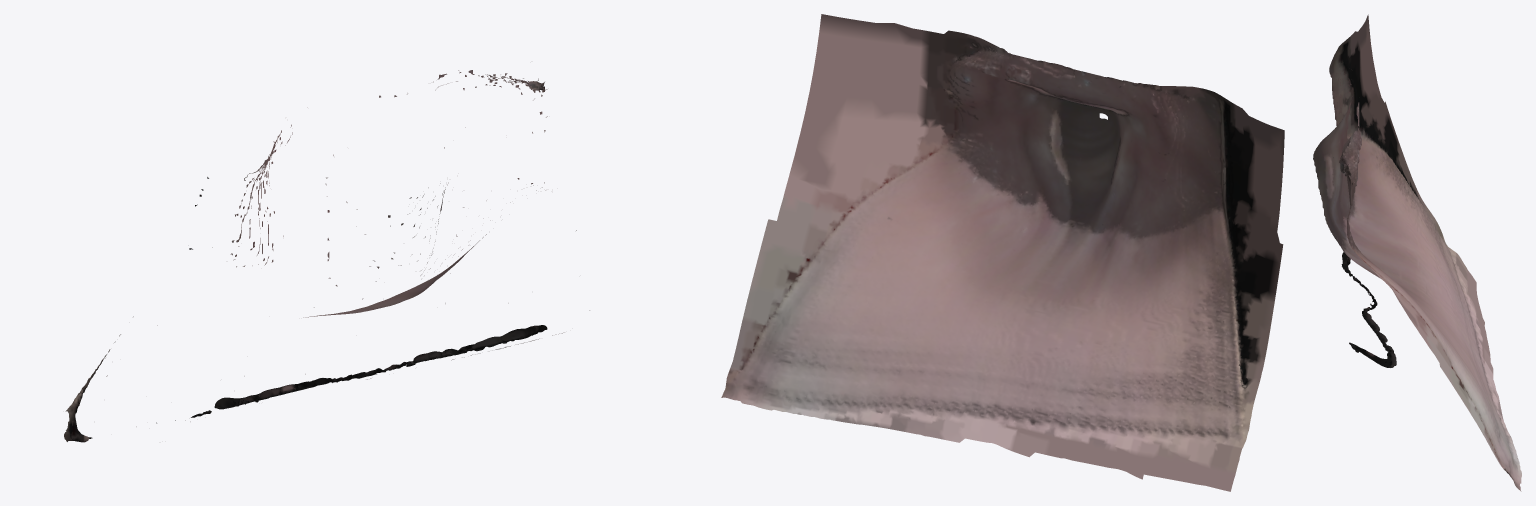
3 renders of one model, left to right at view 1: azimuth 30°, elevation 25°; view 2: azimuth 150°, elevation 25°; view 3: azimuth 270°, elevation 25°, orthographic. The views are drawn at different scales.
Size of the model in its own units: 0.00139 by 0.000893 by 0.000601.
